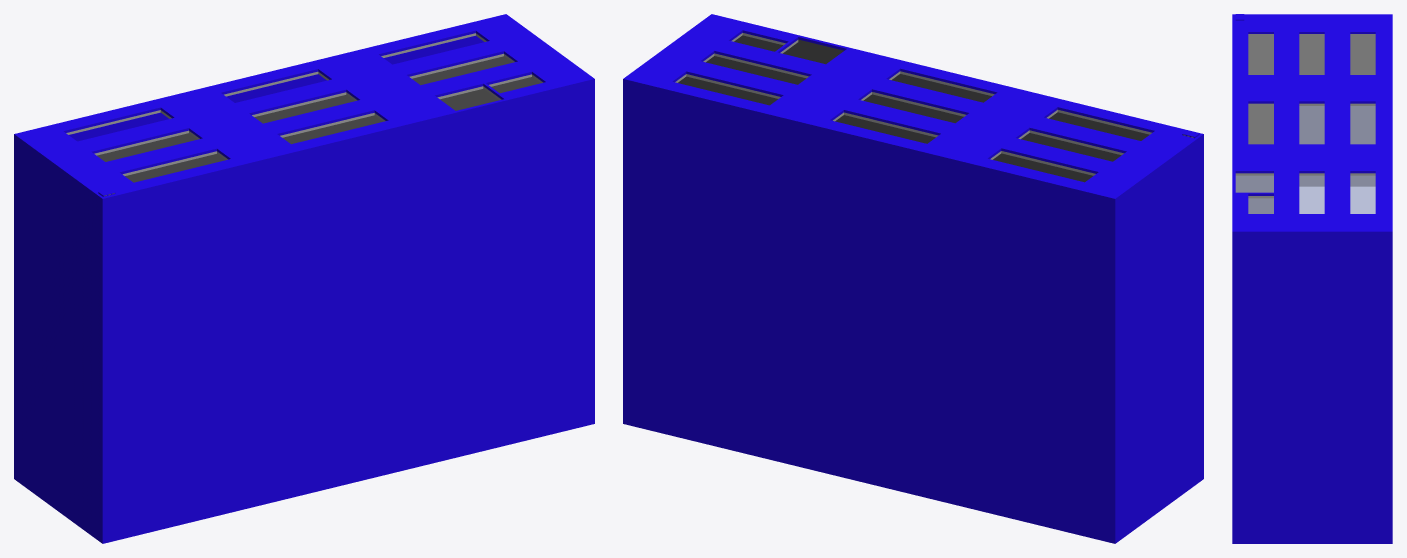
The model's file is GebouwPluginimport.FBX.
3 renders of one model, left to right at view 1: azimuth 30°, elevation 25°; view 2: azimuth 150°, elevation 25°; view 3: azimuth 270°, elevation 25°, orthographic. The views are drawn at different scales.
Visible parts, largest first — view 1: Cut-Extrude11[4], Cut-Extrude17[1], Cut-Extrude17[2], Cut-Extrude11[1], Cut-Extrude11[2], Cut-Extrude11[3]; view 2: Cut-Extrude11[4], Cut-Extrude2, Cut-Extrude17[1], Cut-Extrude17[2], Cut-Extrude11[3], Cut-Extrude11[2], Cut-Extrude11[1]; view 3: Cut-Extrude11[4], Cut-Extrude11[1], Cut-Extrude8, LPattern2, Cut-Extrude11[2], Cut-Extrude11[3], Cut-Extrude9.
Part boxes in pixels (x1=…): Cut-Extrude11[4]: x1=14, y1=14, x2=594, y2=543; Cut-Extrude17[1]: x1=125, y1=77, x2=540, y2=182; Cut-Extrude17[2]: x1=97, y1=56, x2=512, y2=161; Cut-Extrude11[1]: x1=122, y1=74, x2=542, y2=175; Cut-Extrude11[2]: x1=94, y1=53, x2=514, y2=155; Cut-Extrude11[3]: x1=66, y1=33, x2=486, y2=134; Cut-Extrude11[4]: x1=623, y1=14, x2=1203, y2=543; Cut-Extrude2: x1=734, y1=35, x2=1149, y2=140; Cut-Extrude17[1]: x1=706, y1=56, x2=1121, y2=161; Cut-Extrude17[2]: x1=678, y1=76, x2=1092, y2=182; Cut-Extrude11[3]: x1=675, y1=74, x2=1095, y2=175; Cut-Extrude11[2]: x1=703, y1=53, x2=1123, y2=155; Cut-Extrude11[1]: x1=731, y1=33, x2=1152, y2=134; Cut-Extrude11[4]: x1=1232, y1=14, x2=1392, y2=543; Cut-Extrude11[1]: x1=1235, y1=34, x2=1273, y2=198; Cut-Extrude8: x1=1350, y1=106, x2=1375, y2=213; LPattern2: x1=1299, y1=106, x2=1324, y2=213; Cut-Extrude11[2]: x1=1299, y1=34, x2=1324, y2=175; Cut-Extrude11[3]: x1=1350, y1=34, x2=1375, y2=175; Cut-Extrude9: x1=1235, y1=175, x2=1273, y2=213.
Size of the model in its own units: 1193 by 803 by 372.
